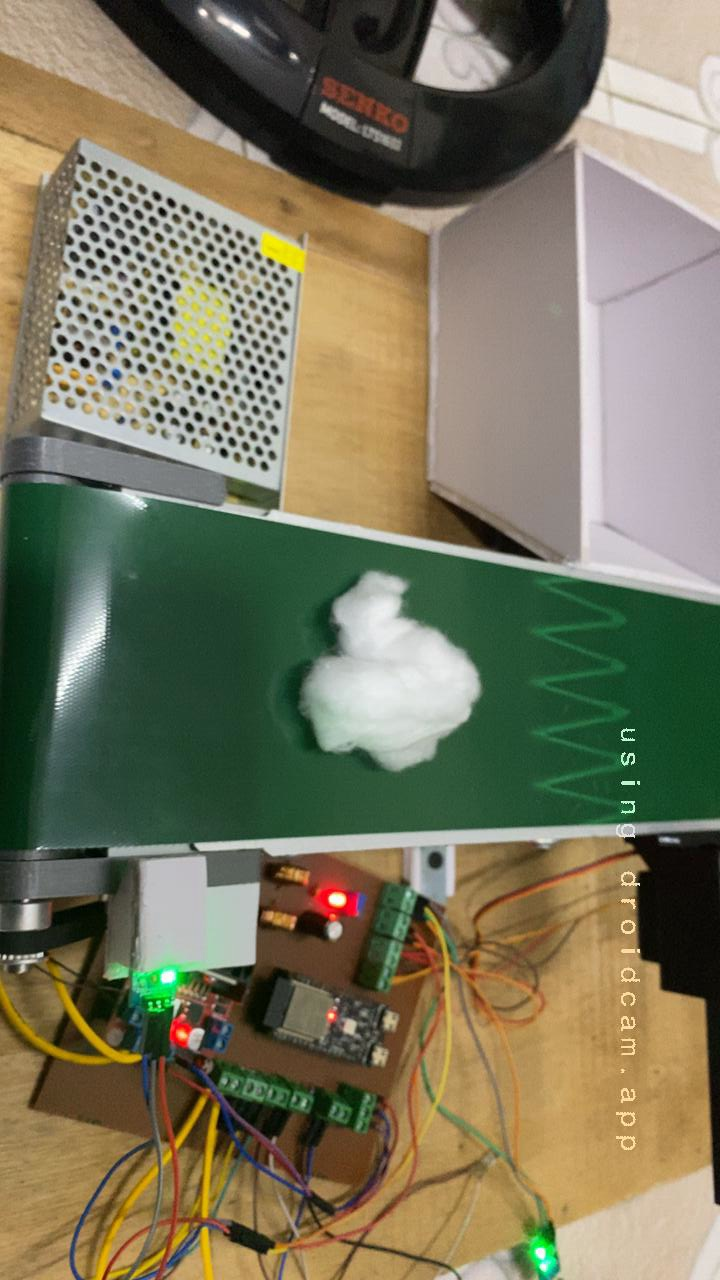cotton: (266, 550, 493, 786)
